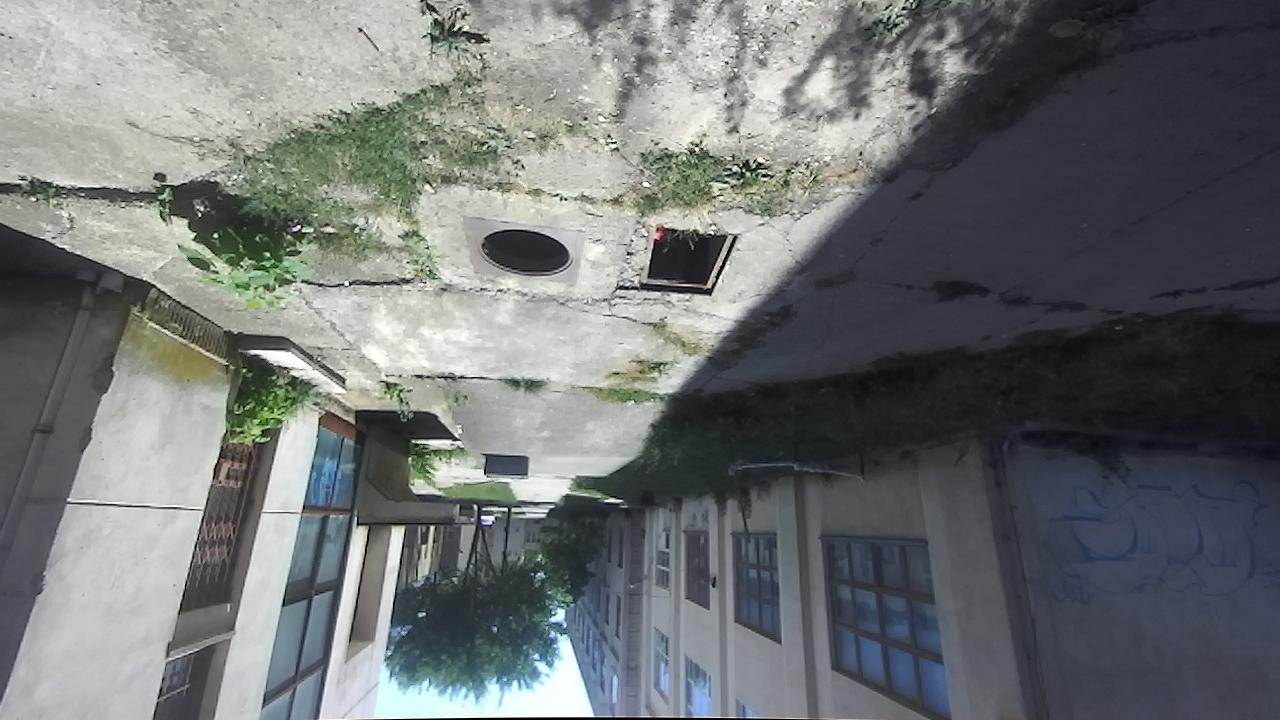drain: (617, 230, 743, 291), (473, 226, 579, 276)
